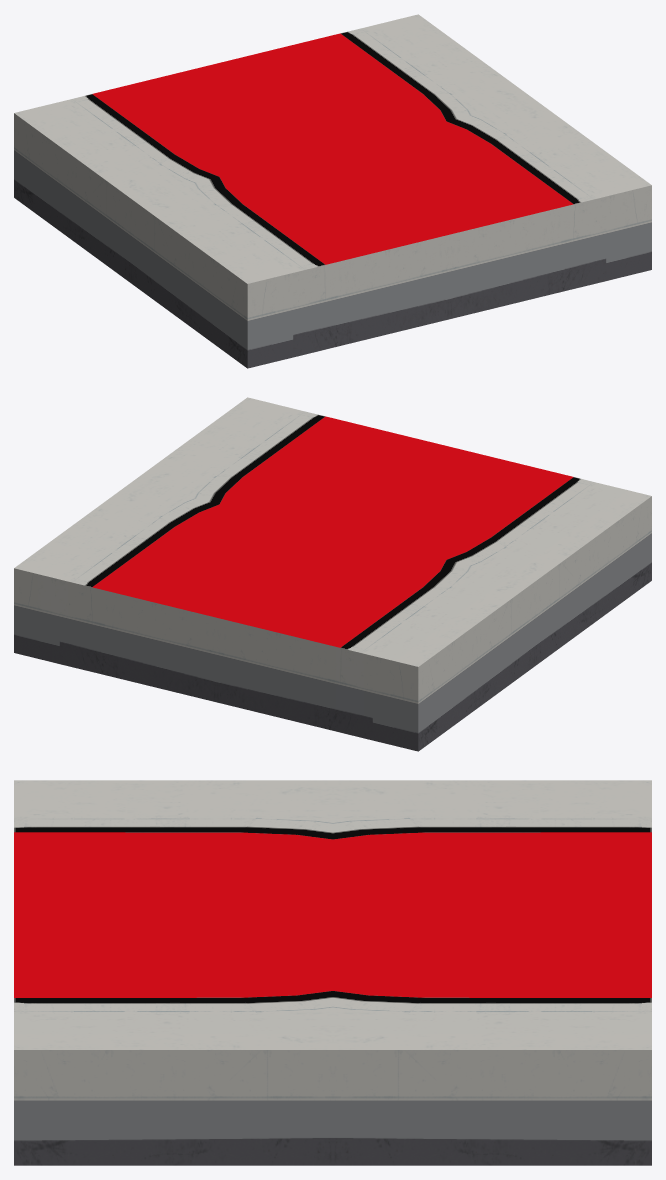
Rendered from G_Env_Arch_Floor_Metal_PathCurvedInner.fbx.
3 views of the same model, one above another, from view 1: azimuth 30°, elevation 25°; view 2: azimuth 150°, elevation 25°; view 3: azimuth 270°, elevation 25° (orthographic). The views are drawn at different scales.
Parts seen in each view (by area): view 1: G_Env_Arch_Floor_Metal_PathCurvedInner; view 2: G_Env_Arch_Floor_Metal_PathCurvedInner; view 3: G_Env_Arch_Floor_Metal_PathCurvedInner.
Boxes of the visible parts, x1=… form: G_Env_Arch_Floor_Metal_PathCurvedInner: x1=14, y1=14, x2=651, y2=368; G_Env_Arch_Floor_Metal_PathCurvedInner: x1=14, y1=397, x2=651, y2=751; G_Env_Arch_Floor_Metal_PathCurvedInner: x1=14, y1=780, x2=651, y2=1165.
Size of the model in its own units: 500 by 100 by 500.
